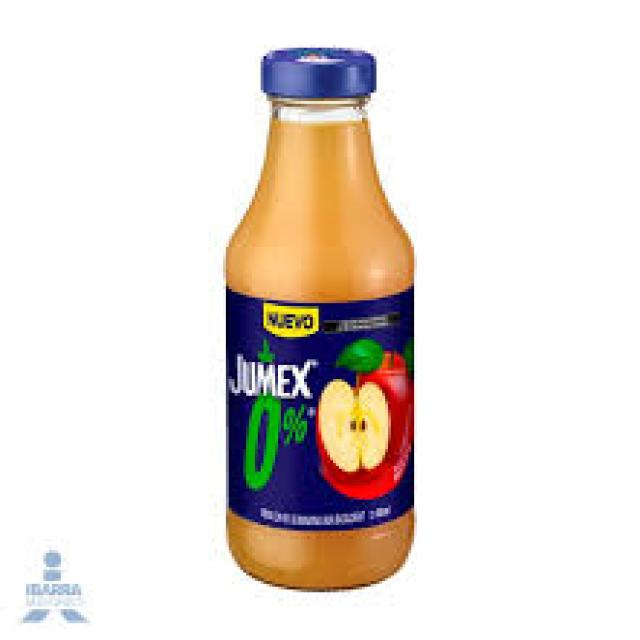Botella: (216, 31, 411, 583)
